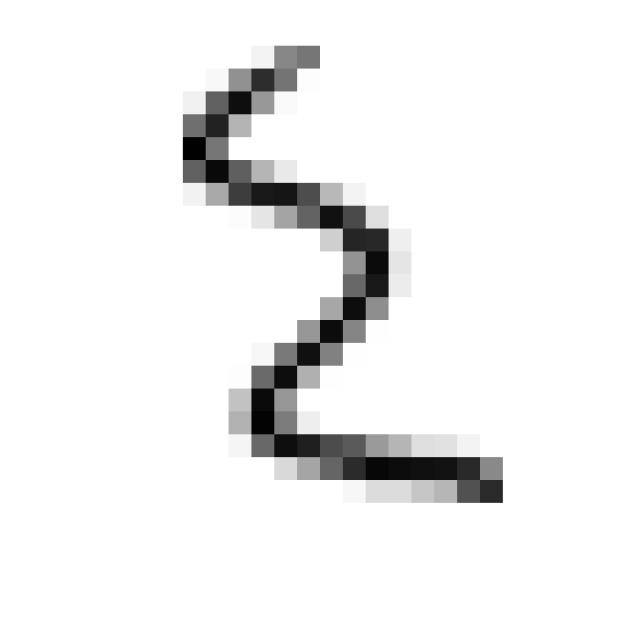4 -four-: (162, 28, 524, 521)
